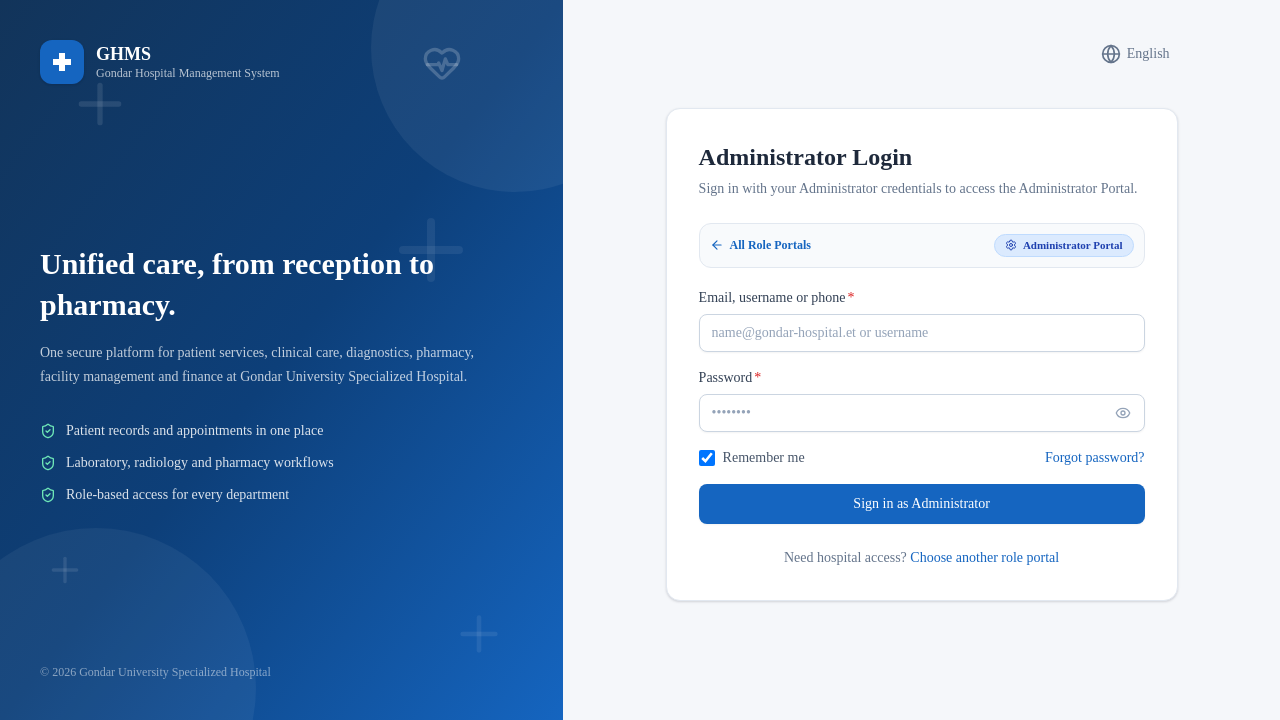
Scenario: Role-Based Login Page & Security Verification › rejects login and revokes session when selected role does not match backend role
The image size is (1280, 720).
Type "tigist.alemu" into the field labelled "Email, username or phone*" at (922, 332), box [699, 314, 1145, 352]
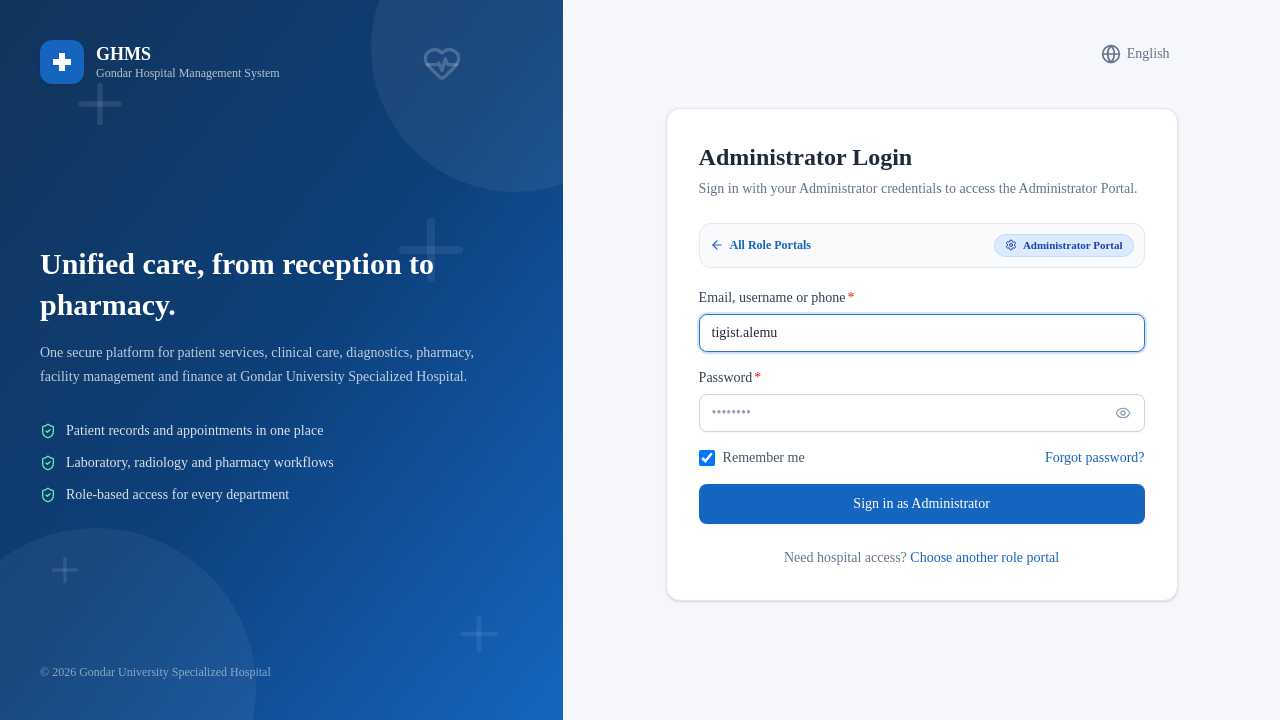
Type "SyntheticTestPass123!" into the password field with placeholder "••••••••" at (922, 412), box [699, 394, 1145, 432]
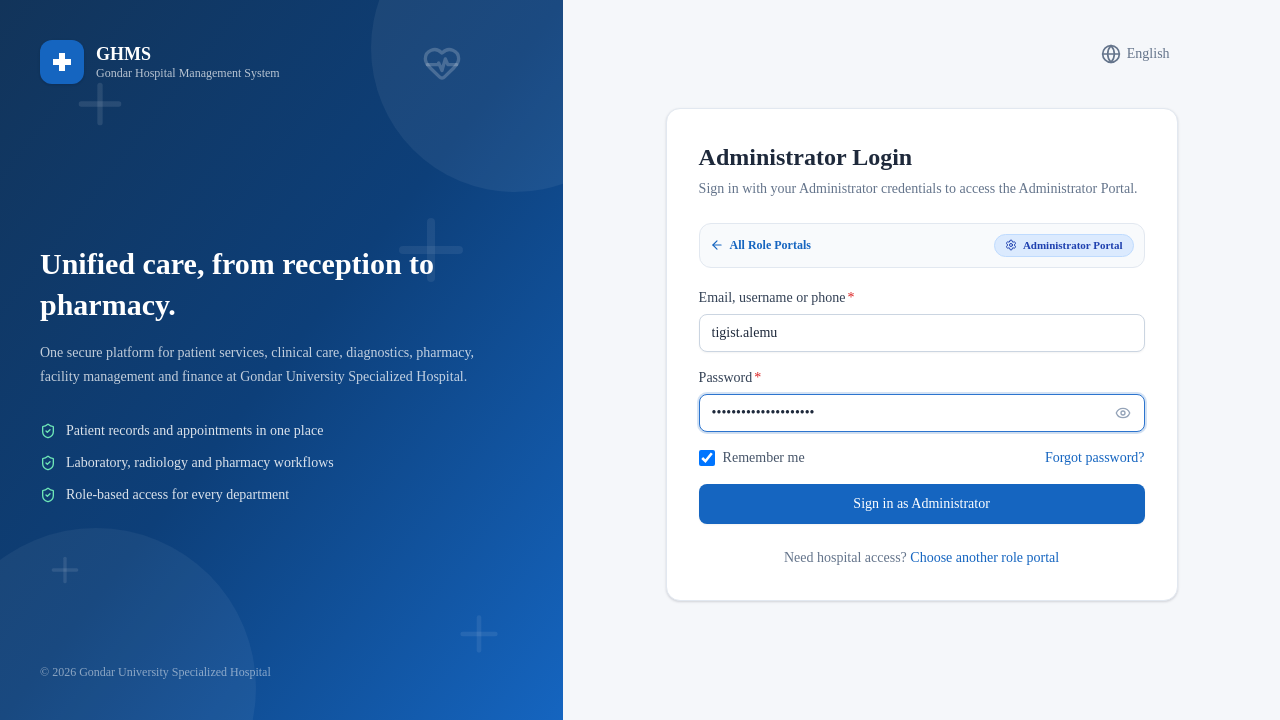
Click the button "Sign in as Administrator" at (922, 504), box [699, 484, 1145, 524]
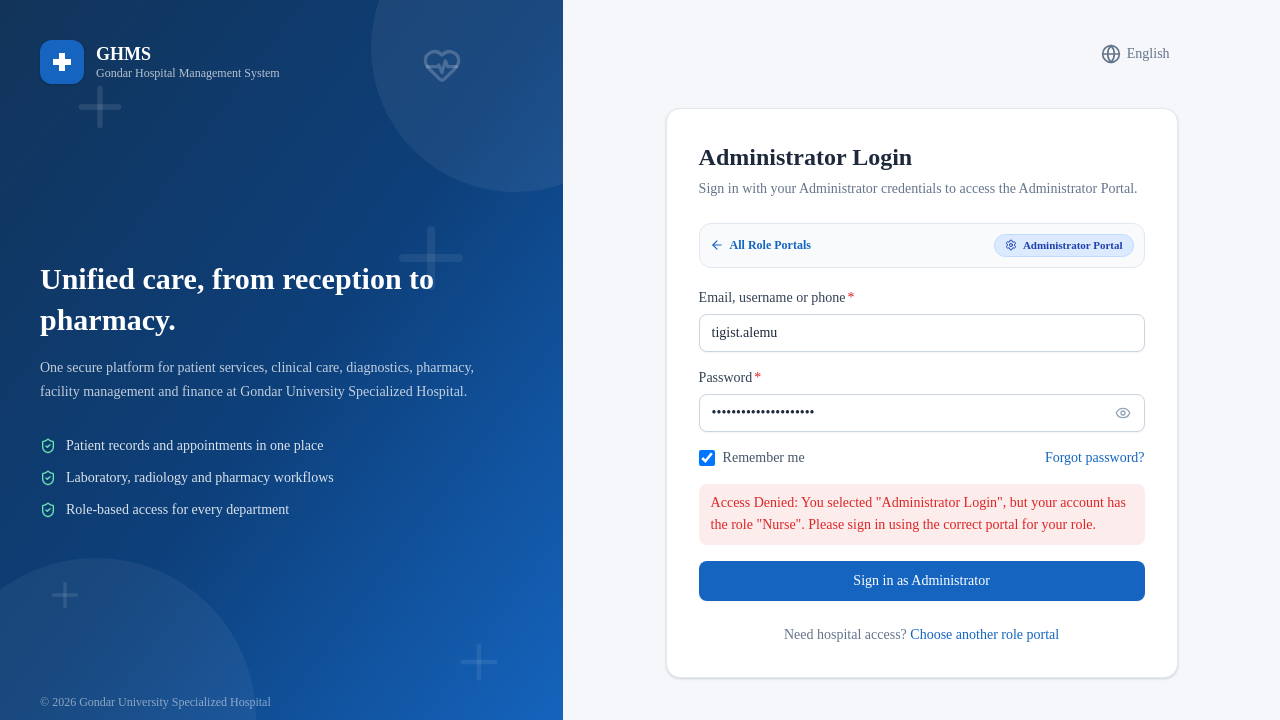
Check: the message shows "Access Denied: You selected \"Administrator Login\", but your account has the role \"Nurse\"", box [711, 494, 1126, 532]
